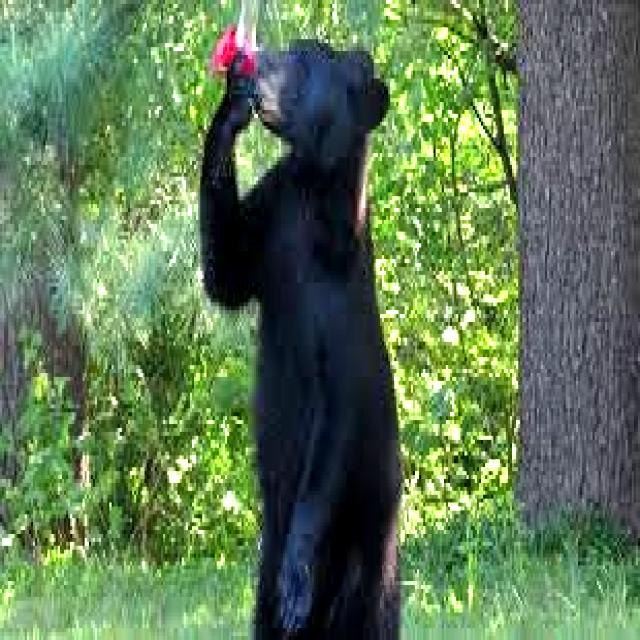bear: (215, 46, 403, 640)
